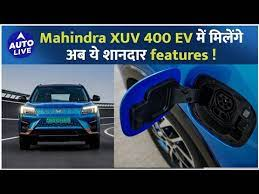XUV 400: (16, 82, 102, 151)
